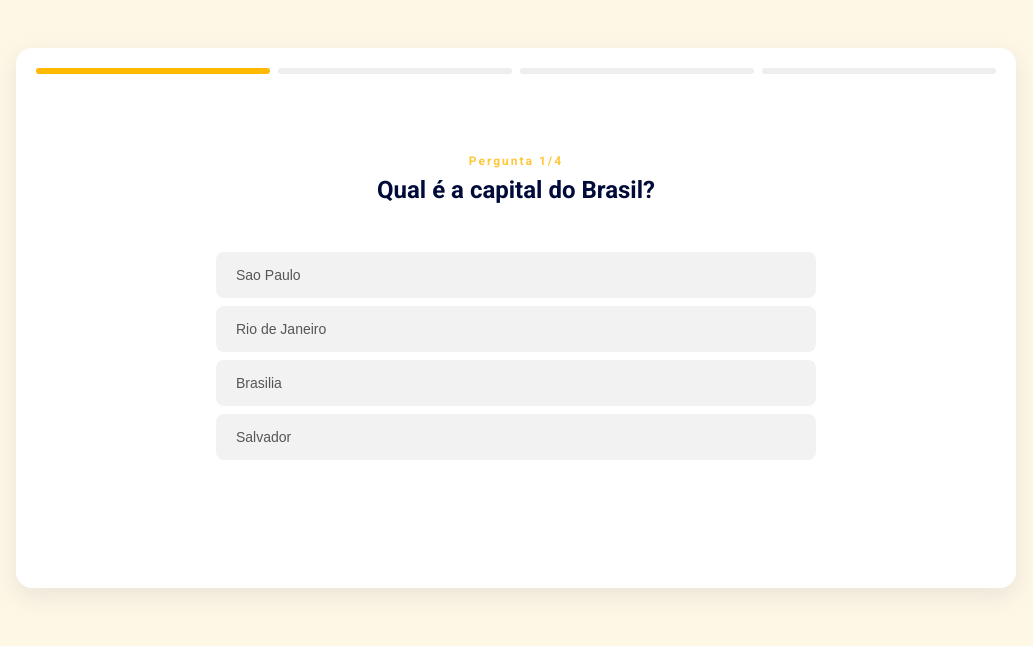
Quiz Component › should go to the next question
Expected: the heading reads "Qual é a capital do Brasil?", x1=377 y1=176 x2=655 y2=204
Click the button "Brasilia" at (259, 383), box x1=216 y1=360 x2=816 y2=406
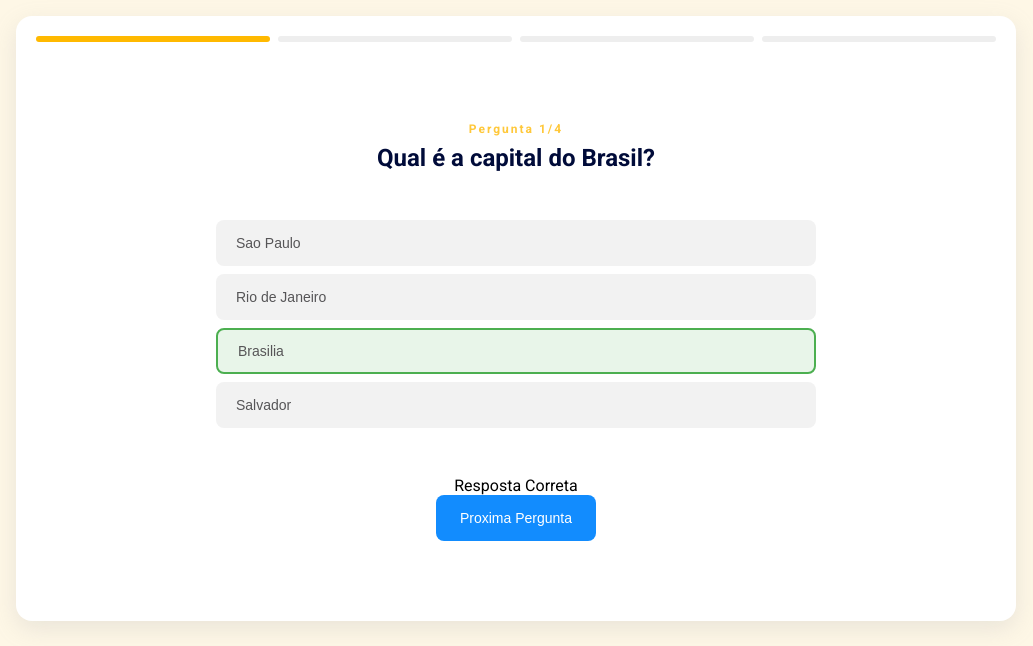
Click the button "Proxima Pergunta" at (516, 518), box x1=436 y1=494 x2=596 y2=540
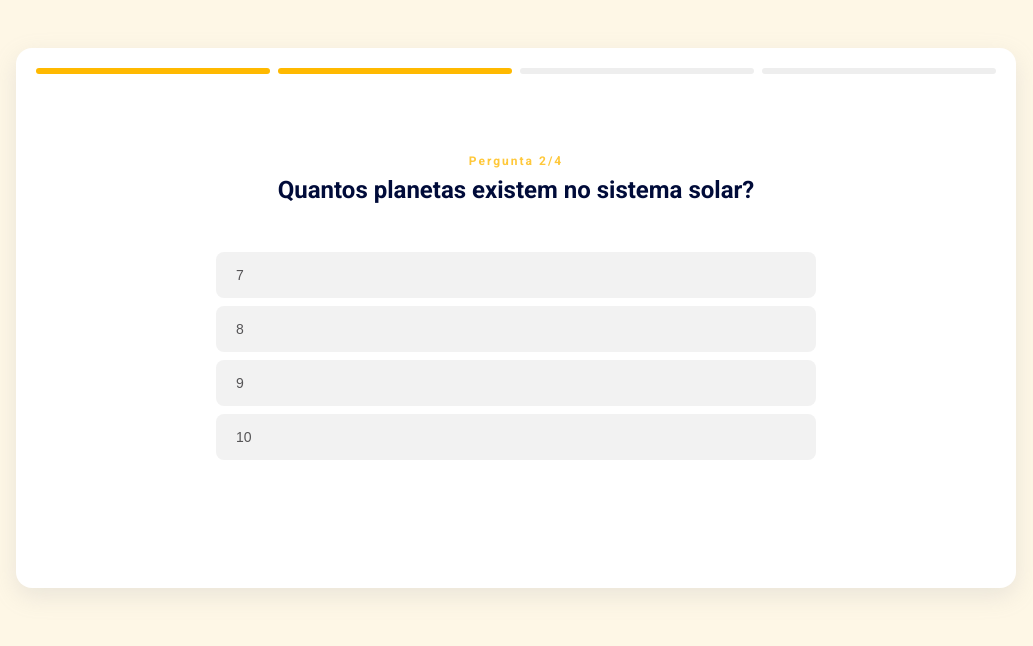
Expected: the heading reads "Quantos planetas existem no sistema solar?", x1=278 y1=176 x2=754 y2=204
